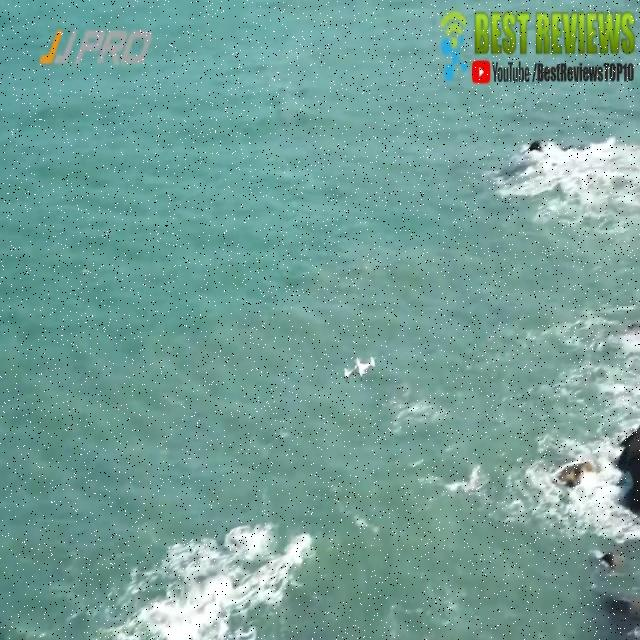UAV: (344, 356, 376, 382)
